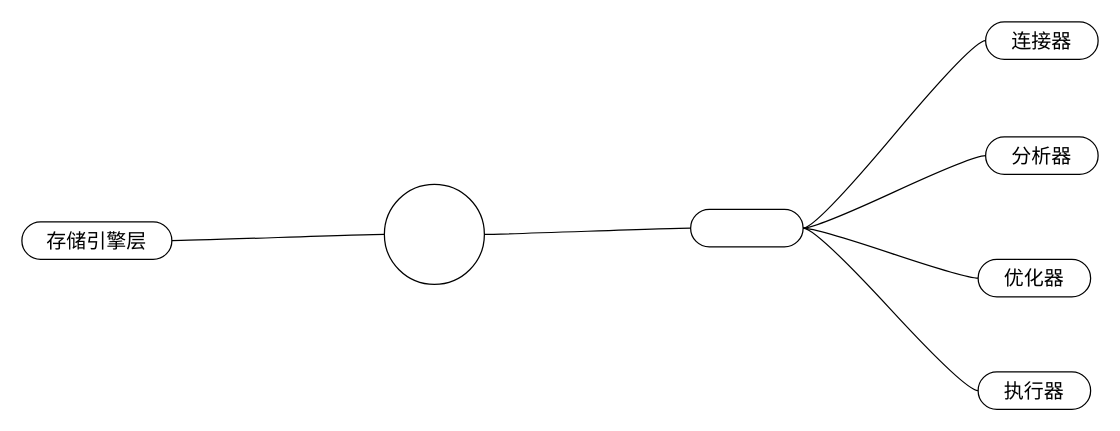
The diagram is 1120 pixels wide and 431 high, and some of its shapes have lost their labels. The shapes that lost their labels are listed below. From the top down, each one's box as (x1, y1, x2, y2) in pixels, then its label:
(383, 183, 484, 284): MySQL
(689, 208, 803, 247): 服务层
